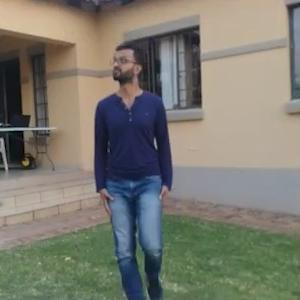follow: (95, 40, 170, 254)
